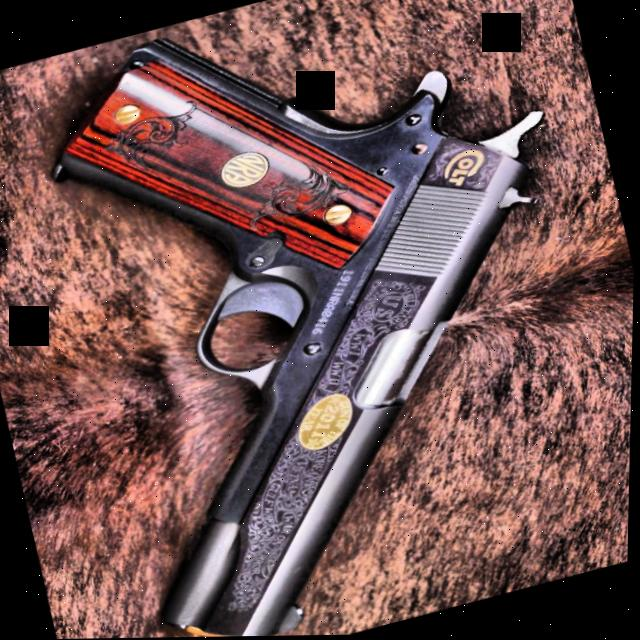Colt m1911: (12, 0, 640, 640)
